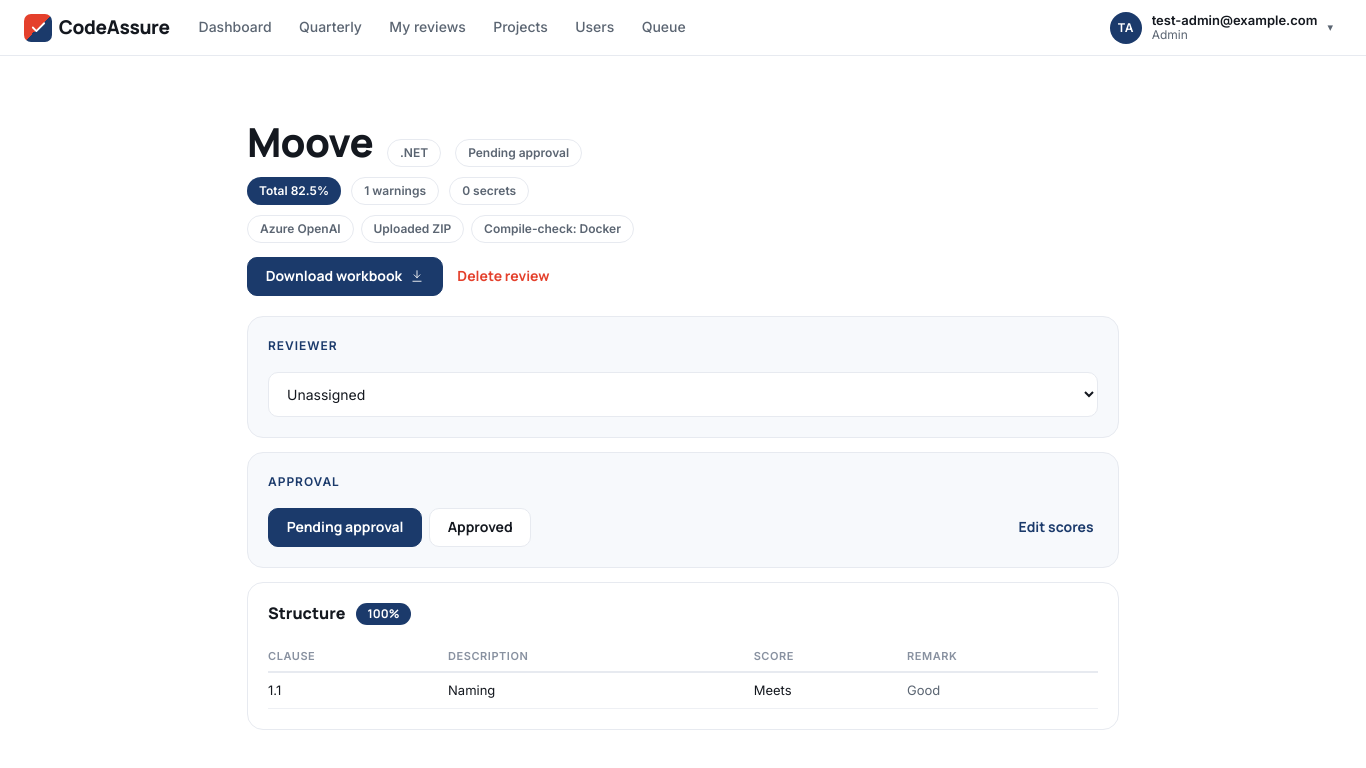
it: clicking Cancel discards edits and exits edit mode without saving
Expected: the heading "Moove" is shown, [247,120,373,164]
Click the button "Edit scores" at [1056, 528], box [1014,508,1098,547]
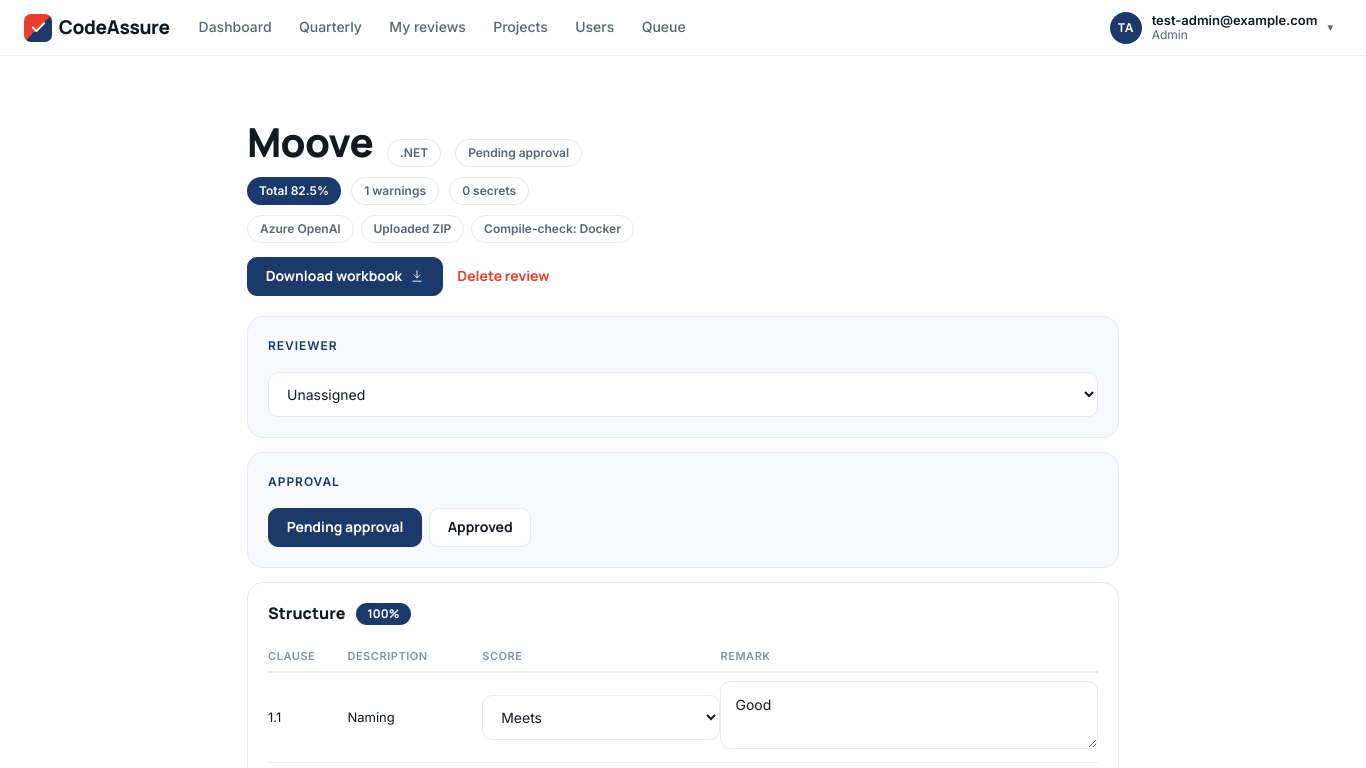
Select "Fails" in the dropdown named "score for 1.1" at [601, 717], box [482,695,720,740]
(page scrolled)
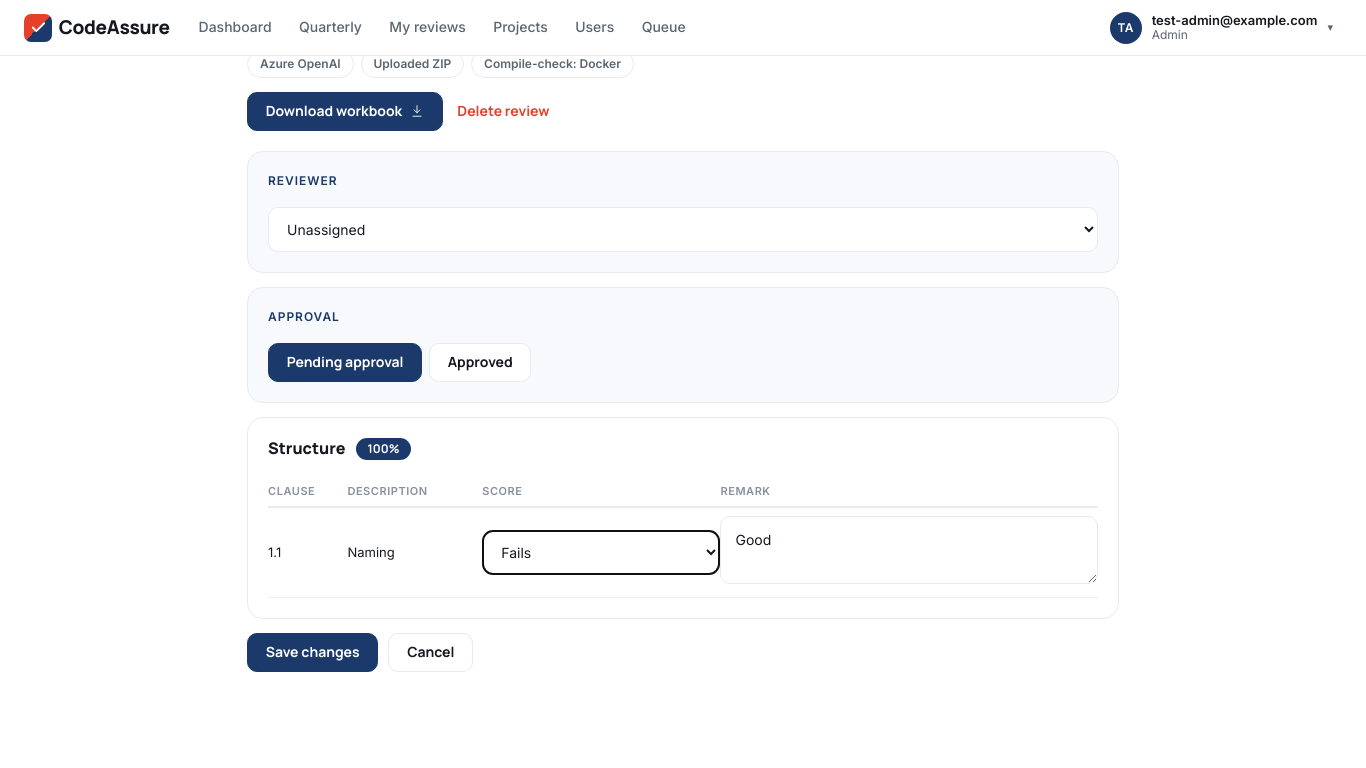
Click the button "Cancel" at [431, 652], box [388,633,473,672]
(page scrolled)
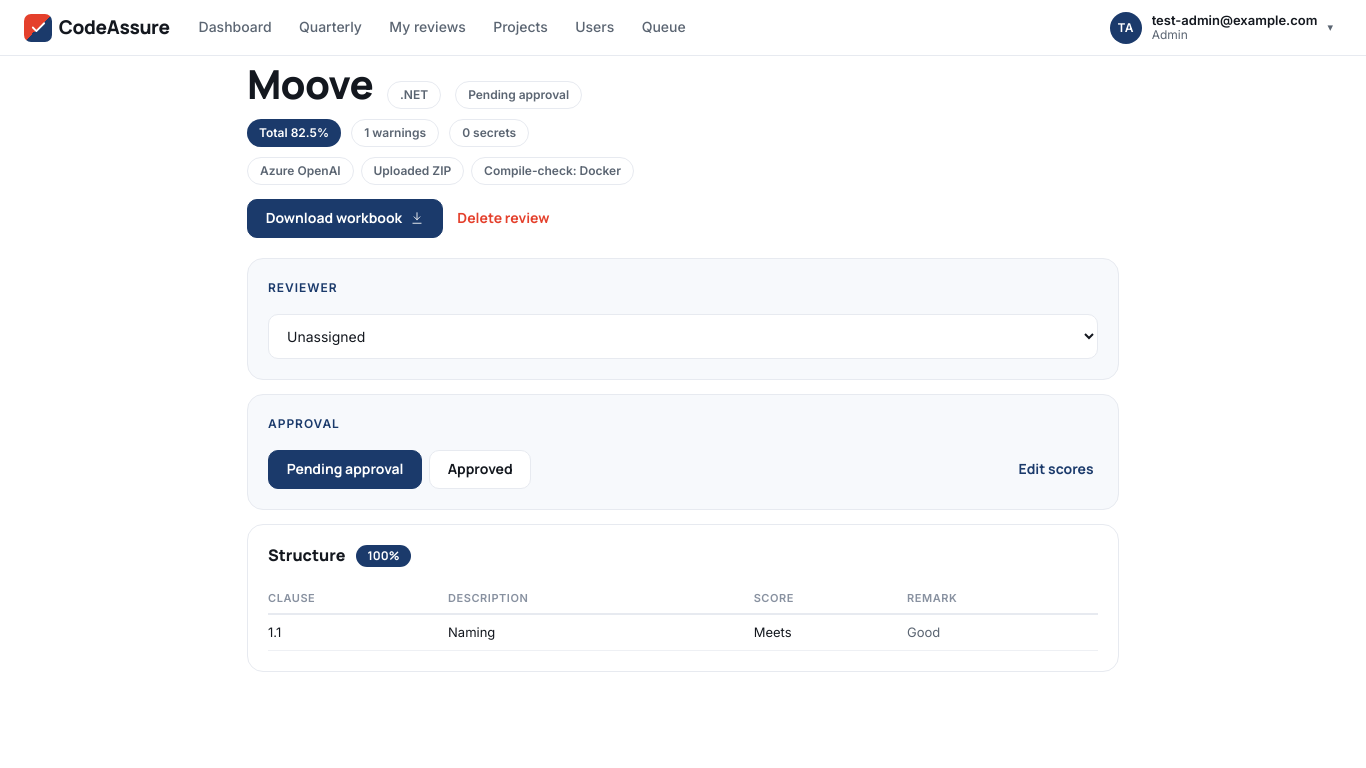
Now the text "Good" is shown, box [907,614,1098,650]
